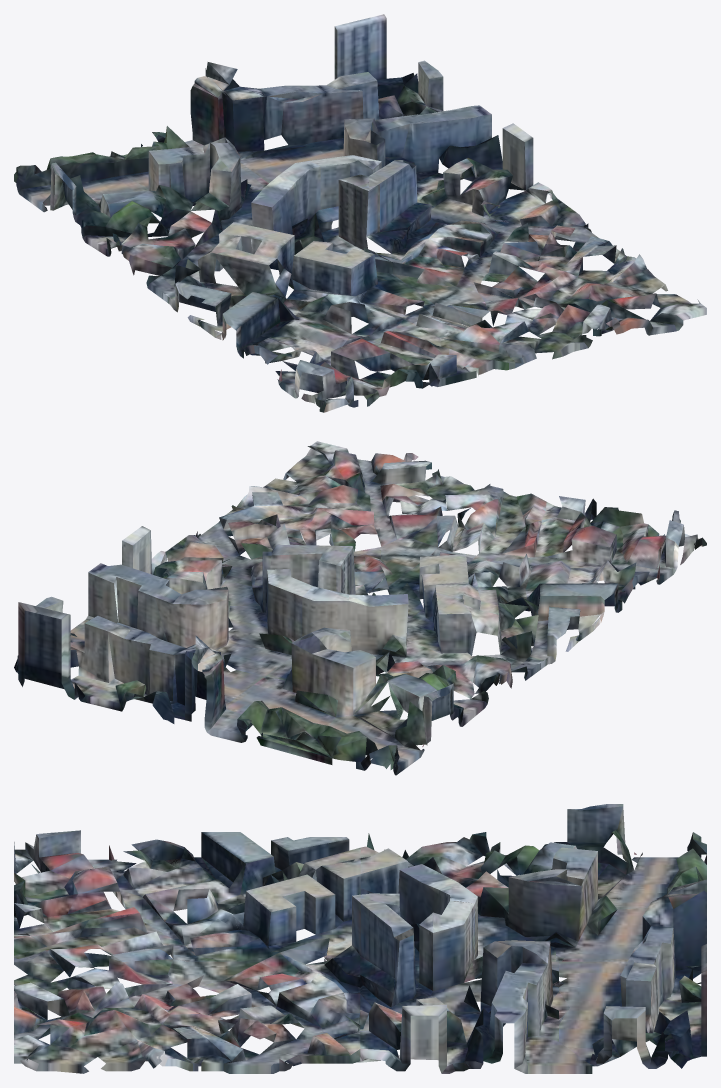
3 views of the same model, one above another, from view 1: azimuth 30°, elevation 25°; view 2: azimuth 150°, elevation 25°; view 3: azimuth 270°, elevation 25° (orthographic). The views are drawn at different scales.
Visible parts, largest first — view 1: 30436272704361407_0; view 2: 30436272704361407_0; view 3: 30436272704361407_0.
Boxes of the visible parts, x1,y1,x2,y2 form: 30436272704361407_0: (14,14,706,412); 30436272704361407_0: (14,441,706,775); 30436272704361407_0: (14,804,706,1073).
Size of the model in its own units: 221 by 48.07 by 306.
1 material, 1 textured.
